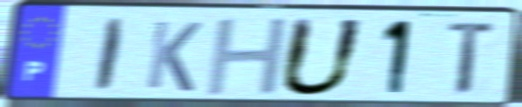1: (375, 17, 416, 100)
H: (202, 15, 293, 99)
I: (91, 16, 130, 95)
K: (143, 18, 205, 94)
T: (445, 19, 501, 100)
U: (275, 16, 370, 100)
